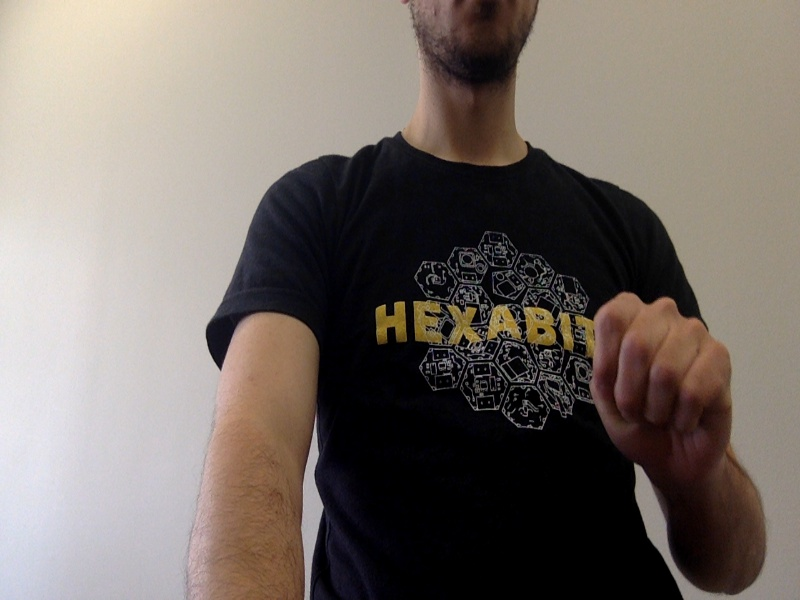0-hand: (589, 288, 732, 470)
